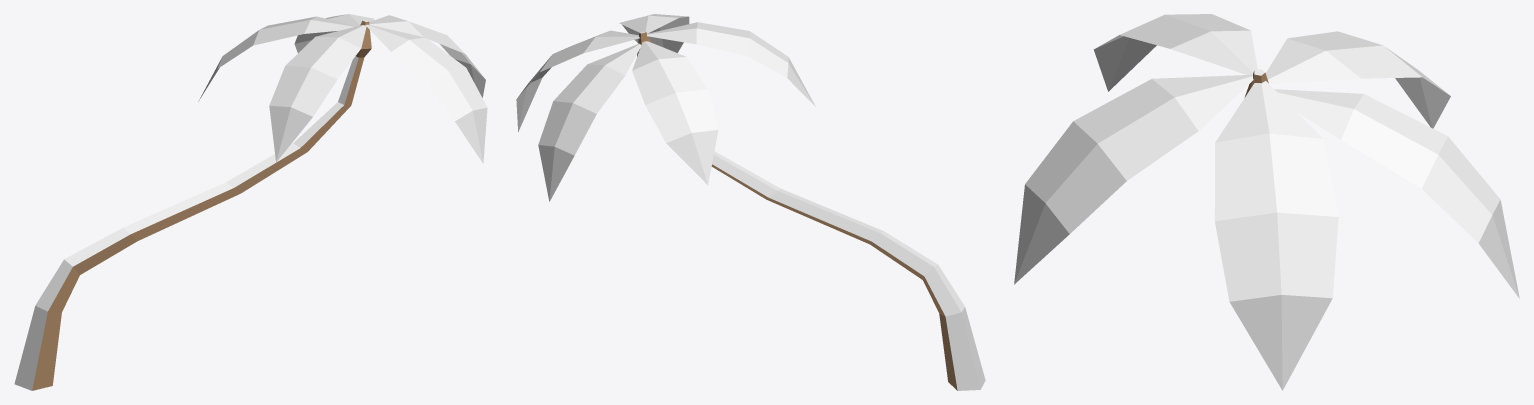
The model's file is Palm_Tree_OneSided_s_Snow_05.fbx.
3 renders of one model, left to right at view 1: azimuth 30°, elevation 25°; view 2: azimuth 150°, elevation 25°; view 3: azimuth 270°, elevation 25°, orthographic. The views are drawn at different scales.
Parts seen in each view (by area): view 1: Palm_Tree_OneSided_s_Snow_05; view 2: Palm_Tree_OneSided_s_Snow_05; view 3: Palm_Tree_OneSided_s_Snow_05.
Boxes of the visible parts, x1,y1,x2,y2 form: Palm_Tree_OneSided_s_Snow_05: [14, 14, 487, 390]; Palm_Tree_OneSided_s_Snow_05: [516, 14, 985, 390]; Palm_Tree_OneSided_s_Snow_05: [1014, 14, 1519, 390].
Size of the model in its own units: 447 by 258 by 244.
